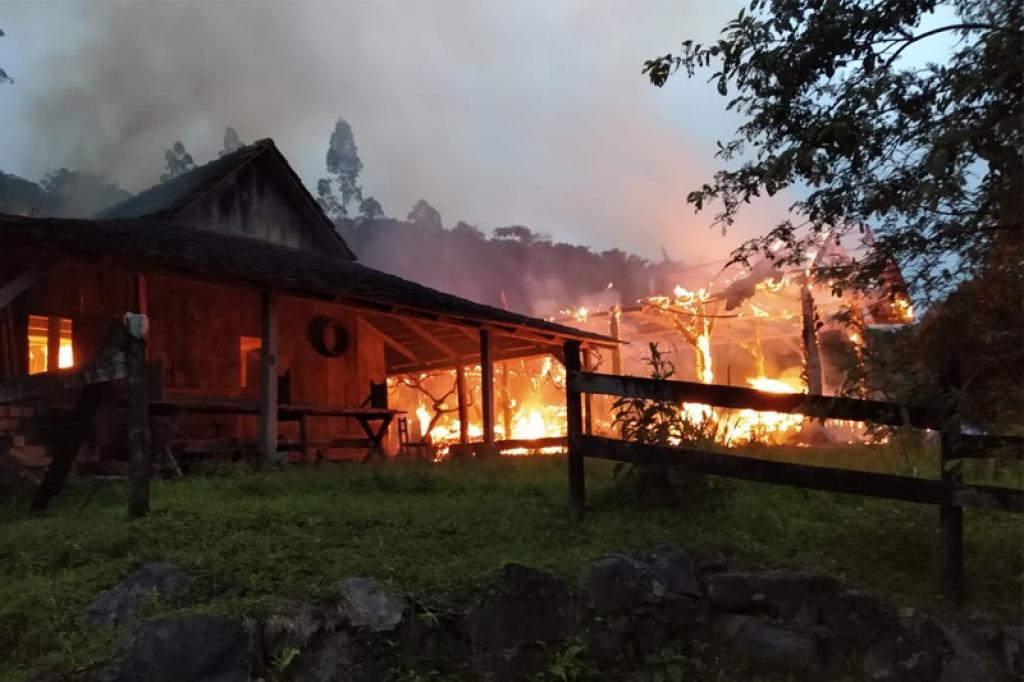Fire: (16, 7, 745, 319), (415, 397, 568, 460), (665, 402, 797, 447), (673, 325, 717, 382), (650, 284, 713, 309), (741, 373, 805, 396), (39, 344, 76, 376), (539, 354, 572, 388), (558, 303, 593, 324), (892, 302, 924, 320)
